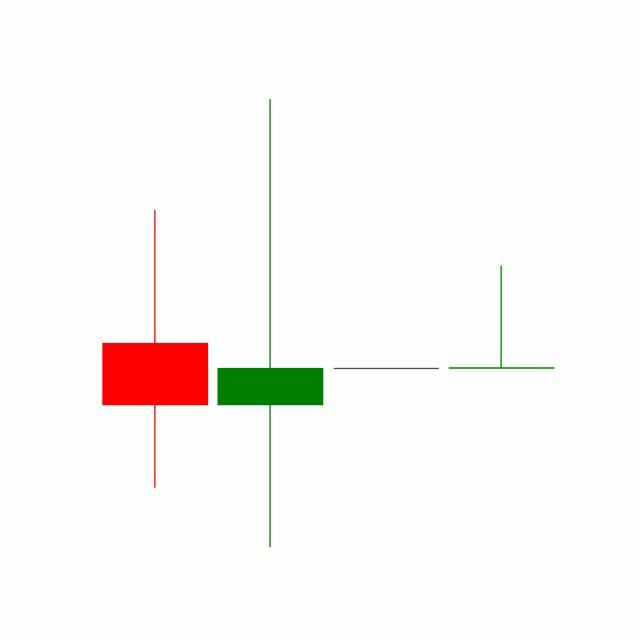Gravestone Doji: (444, 265, 560, 371)
